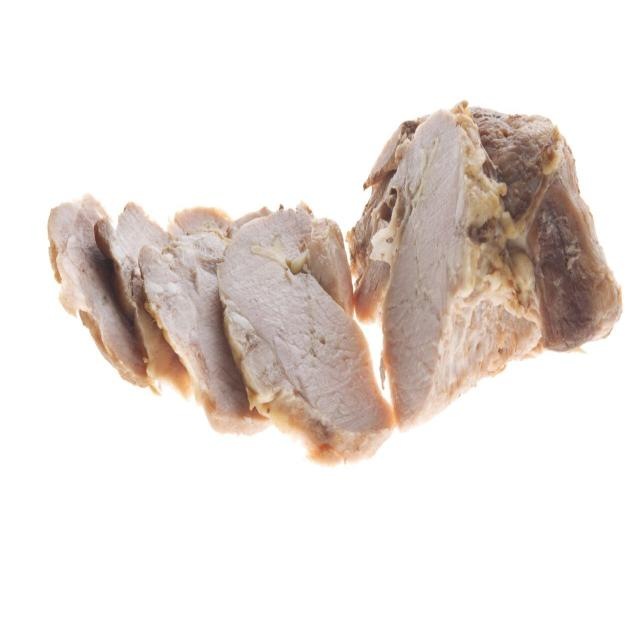carne de cerdo: (42, 184, 404, 486), (346, 70, 618, 452)
